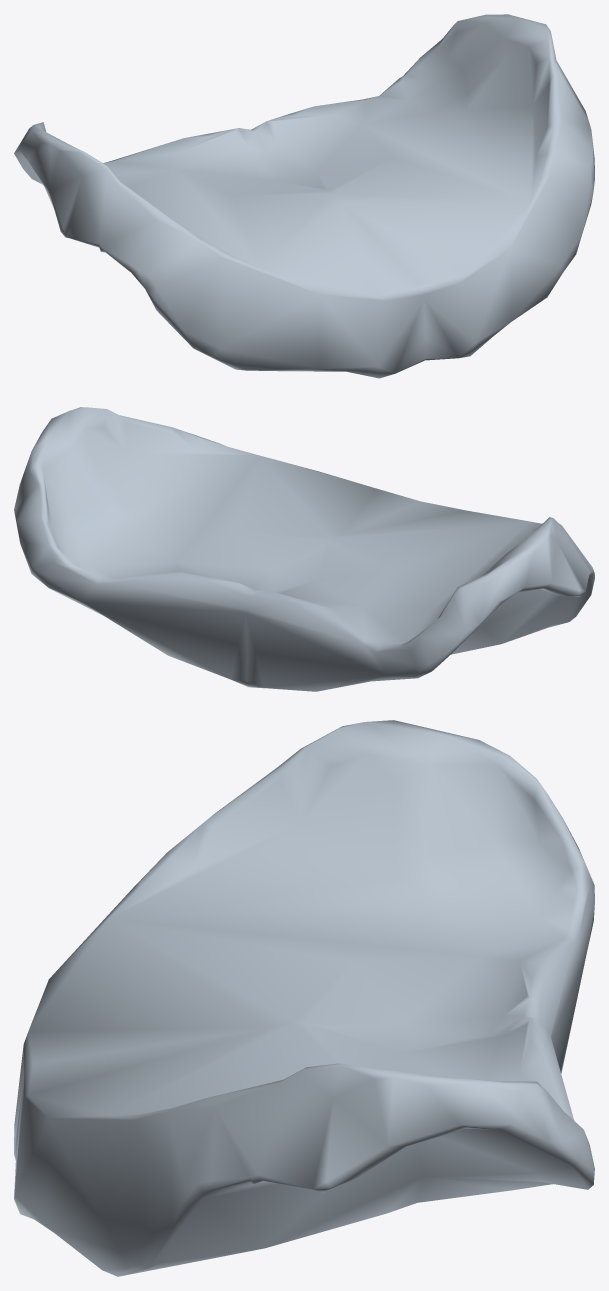
Rendered from intervertebral-disc-c3-c4.glb.
The picture shows the model from 3 angles, top to bottom: view 1: azimuth 30°, elevation 25°; view 2: azimuth 150°, elevation 25°; view 3: azimuth 270°, elevation 25°; orthographic projection. The views are drawn at different scales.
Parts seen in each view (by area): view 1: Intervertebral disc C3-C4; view 2: Intervertebral disc C3-C4; view 3: Intervertebral disc C3-C4.
Boxes of the visible parts, bbox=[...] form: Intervertebral disc C3-C4: bbox=[14, 14, 594, 378]; Intervertebral disc C3-C4: bbox=[14, 407, 594, 691]; Intervertebral disc C3-C4: bbox=[14, 720, 594, 1276].
Bounding box in the file's own units: 0.0242 × 0.00863 × 0.0159.
